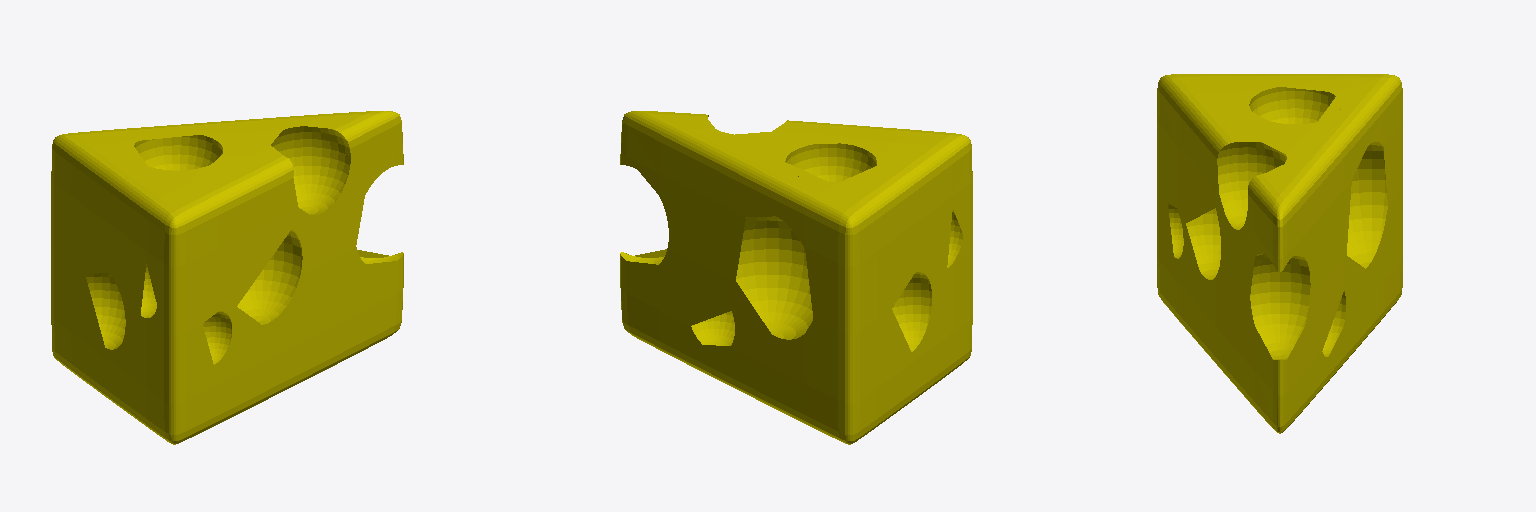
File: cheese.obj
The picture shows the model from 3 angles: view 1: azimuth 30°, elevation 25°; view 2: azimuth 150°, elevation 25°; view 3: azimuth 270°, elevation 25°; orthographic projection.
Parts seen in each view (by area): view 1: Cube; view 2: Cube; view 3: Cube.
Part boxes in pixels (left/top/right/bottom): Cube: left=51, top=111, right=403, bottom=444; Cube: left=620, top=111, right=972, bottom=444; Cube: left=1157, top=74, right=1402, bottom=433.
Bounding box in the file's own units: 0.5464 × 0.4129 × 0.3963.